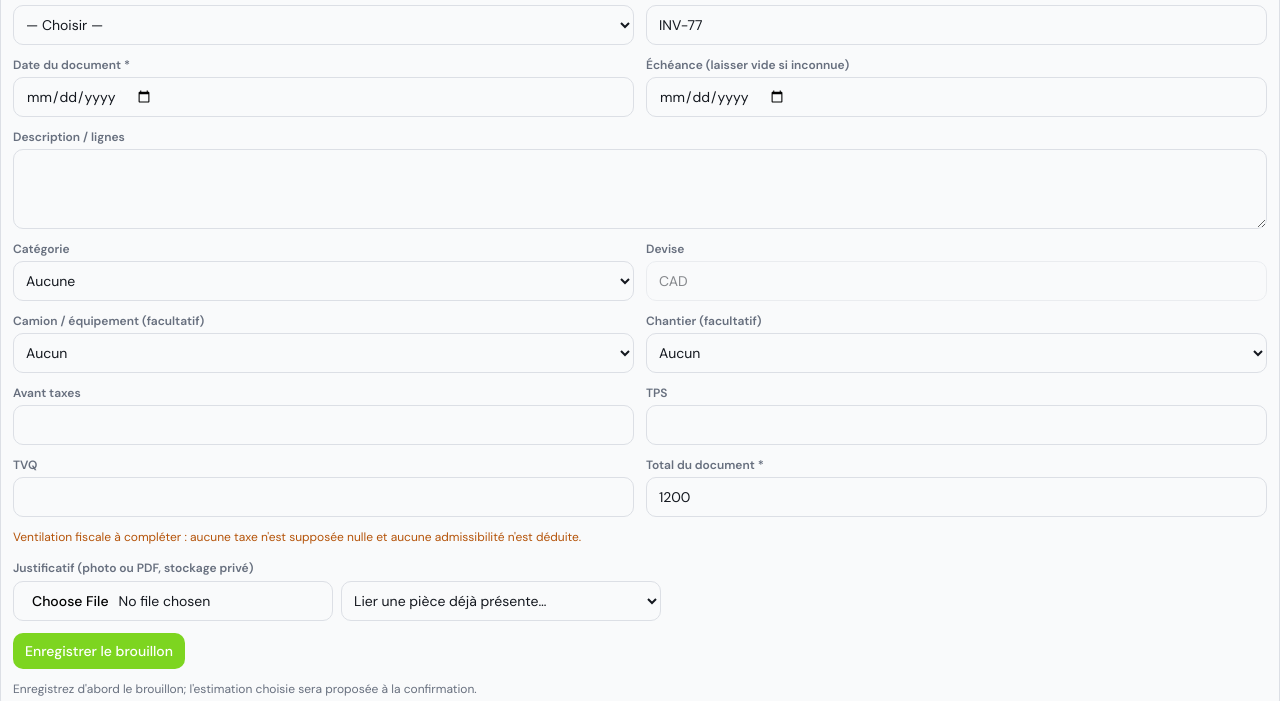
FIN-12A — saisie › doublon exact signalé avec lien vers le document existant
The width and height of the screenshot is (1280, 701).
(page scrolled)
Click the button "Enregistrer le brouillon": (99, 651) left=13, top=633, right=185, bottom=669
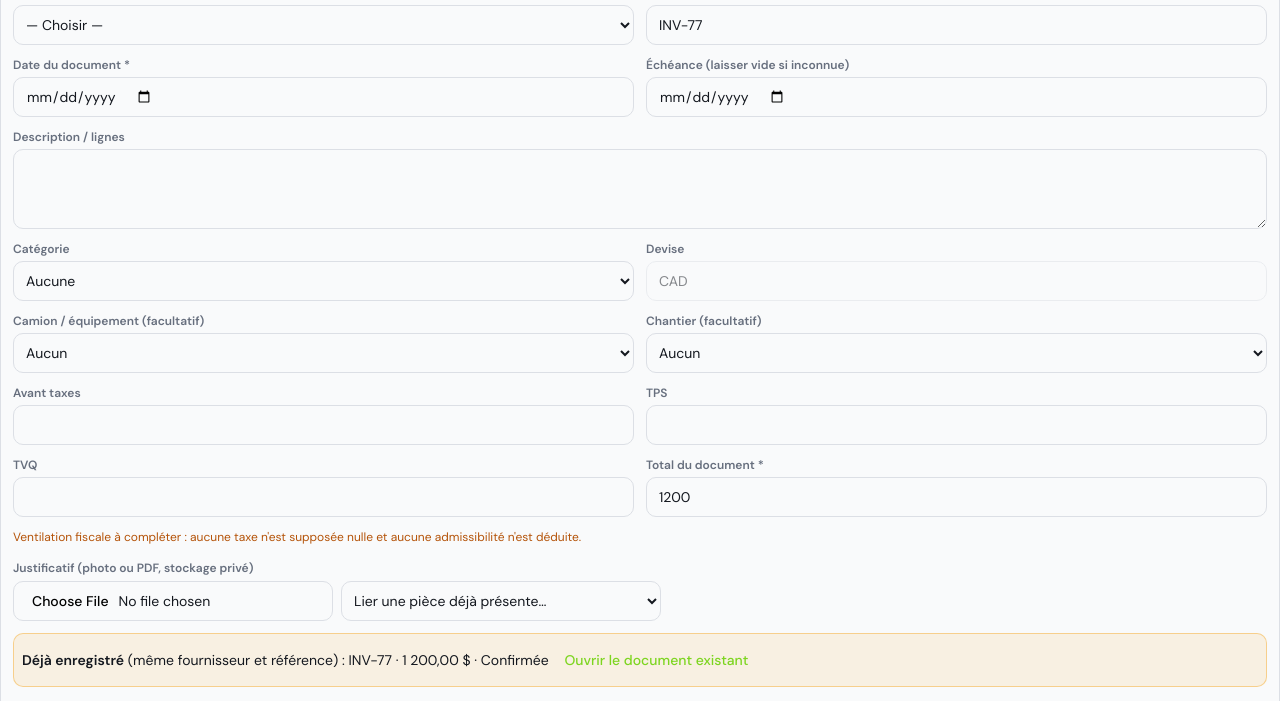
Expected: the text "Déjà enregistré" is shown, left=22, top=651, right=124, bottom=669
Expected: the button "Ouvrir le document existant" is shown, left=552, top=642, right=760, bottom=678
